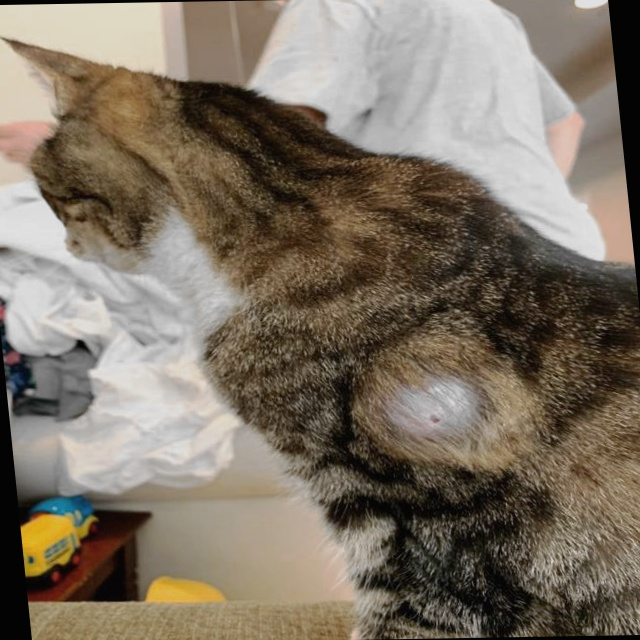lump_and_bump: (379, 369, 494, 443)
